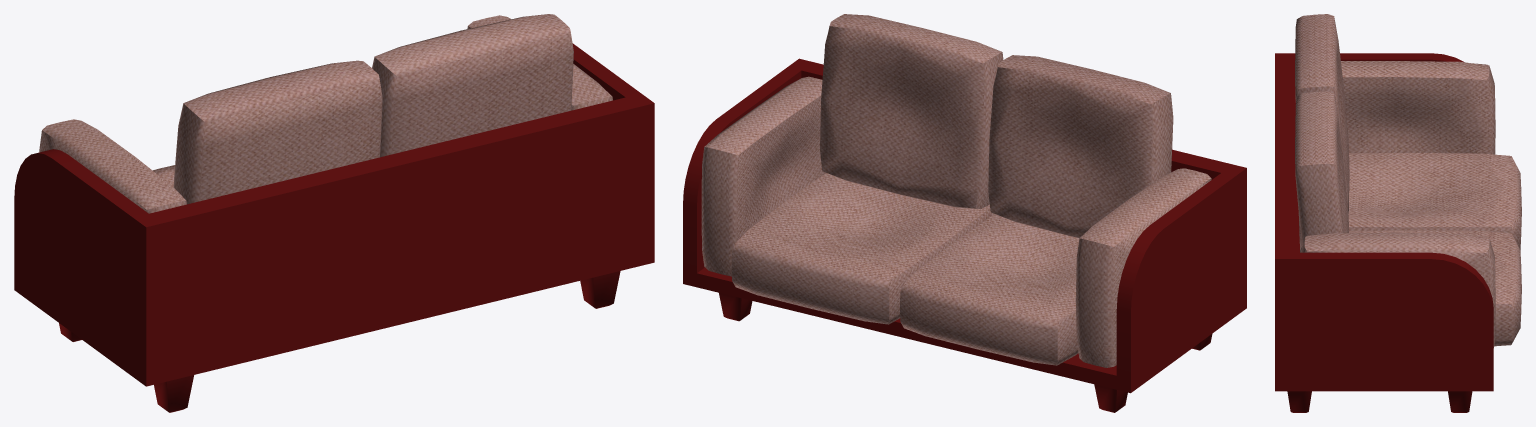
Rendered from furniture_seating_210074.glb.
3 renders of one model, left to right at view 1: azimuth 30°, elevation 25°; view 2: azimuth 150°, elevation 25°; view 3: azimuth 270°, elevation 25°, orthographic. The views are drawn at different scales.
Visible parts, largest first — view 1: furniture_seating_210074; view 2: furniture_seating_210074; view 3: furniture_seating_210074.
Part boxes in pixels (x1,y1,x2,y2): furniture_seating_210074: (14, 14, 654, 412); furniture_seating_210074: (683, 14, 1246, 412); furniture_seating_210074: (1275, 14, 1521, 412).
Bounding box in the file's own units: 1.61 × 0.8773 × 0.8179.
Materials: 1 (1 with a texture image).
